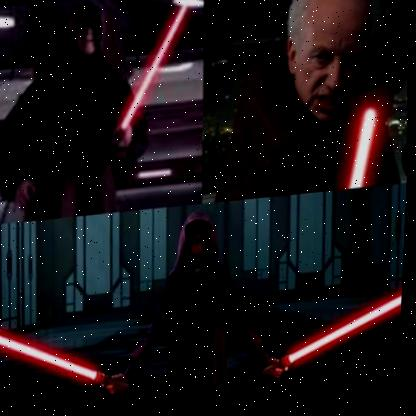sith_lightsaber: (250, 278, 402, 383), (0, 304, 133, 408), (107, 2, 194, 148), (337, 100, 388, 192)
